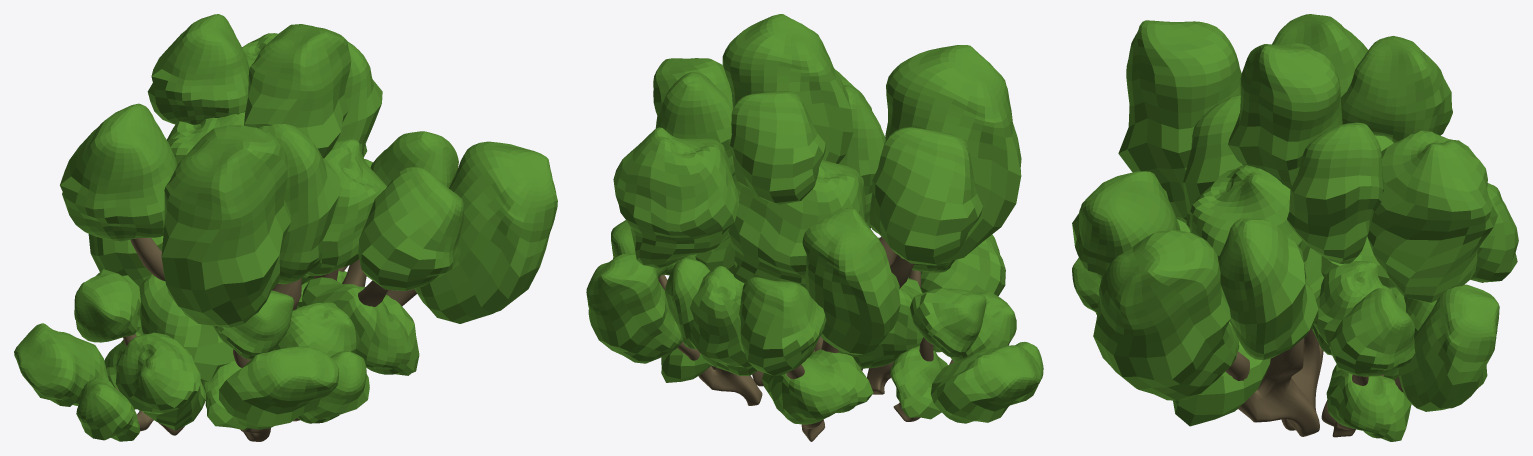
The model's file is Shrub.fbx.
3 renders of one model, left to right at view 1: azimuth 30°, elevation 25°; view 2: azimuth 150°, elevation 25°; view 3: azimuth 270°, elevation 25°, orthographic. The views are drawn at different scales.
Visible parts, largest first — view 1: Shrub2; view 2: Shrub2; view 3: Shrub2.
Part boxes in pixels (x1=…): Shrub2: x1=14, y1=14, x2=557, y2=441; Shrub2: x1=586, y1=14, x2=1043, y2=441; Shrub2: x1=1072, y1=14, x2=1518, y2=441.
Bounding box in the file's own units: 115 × 93.78 × 91.57.
